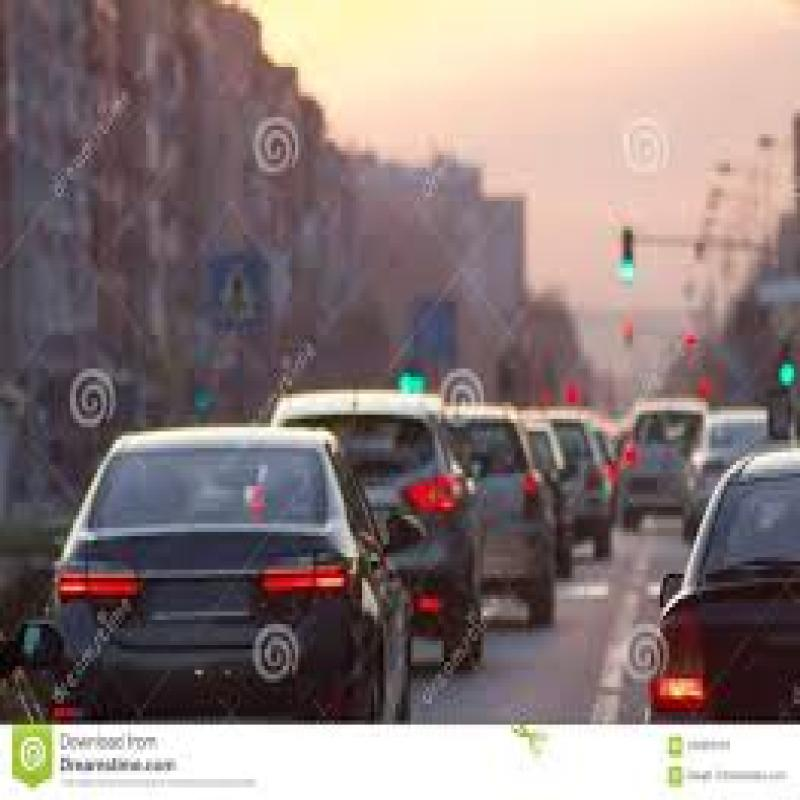car: (70, 423, 401, 755), (268, 369, 477, 661), (648, 440, 800, 800), (430, 382, 542, 638), (483, 398, 625, 534), (628, 381, 718, 505), (694, 404, 759, 538)
